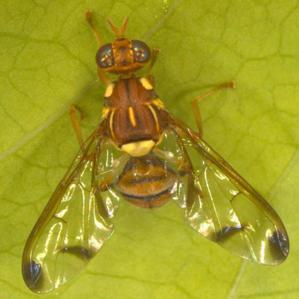melon fly: (9, 0, 299, 299)
